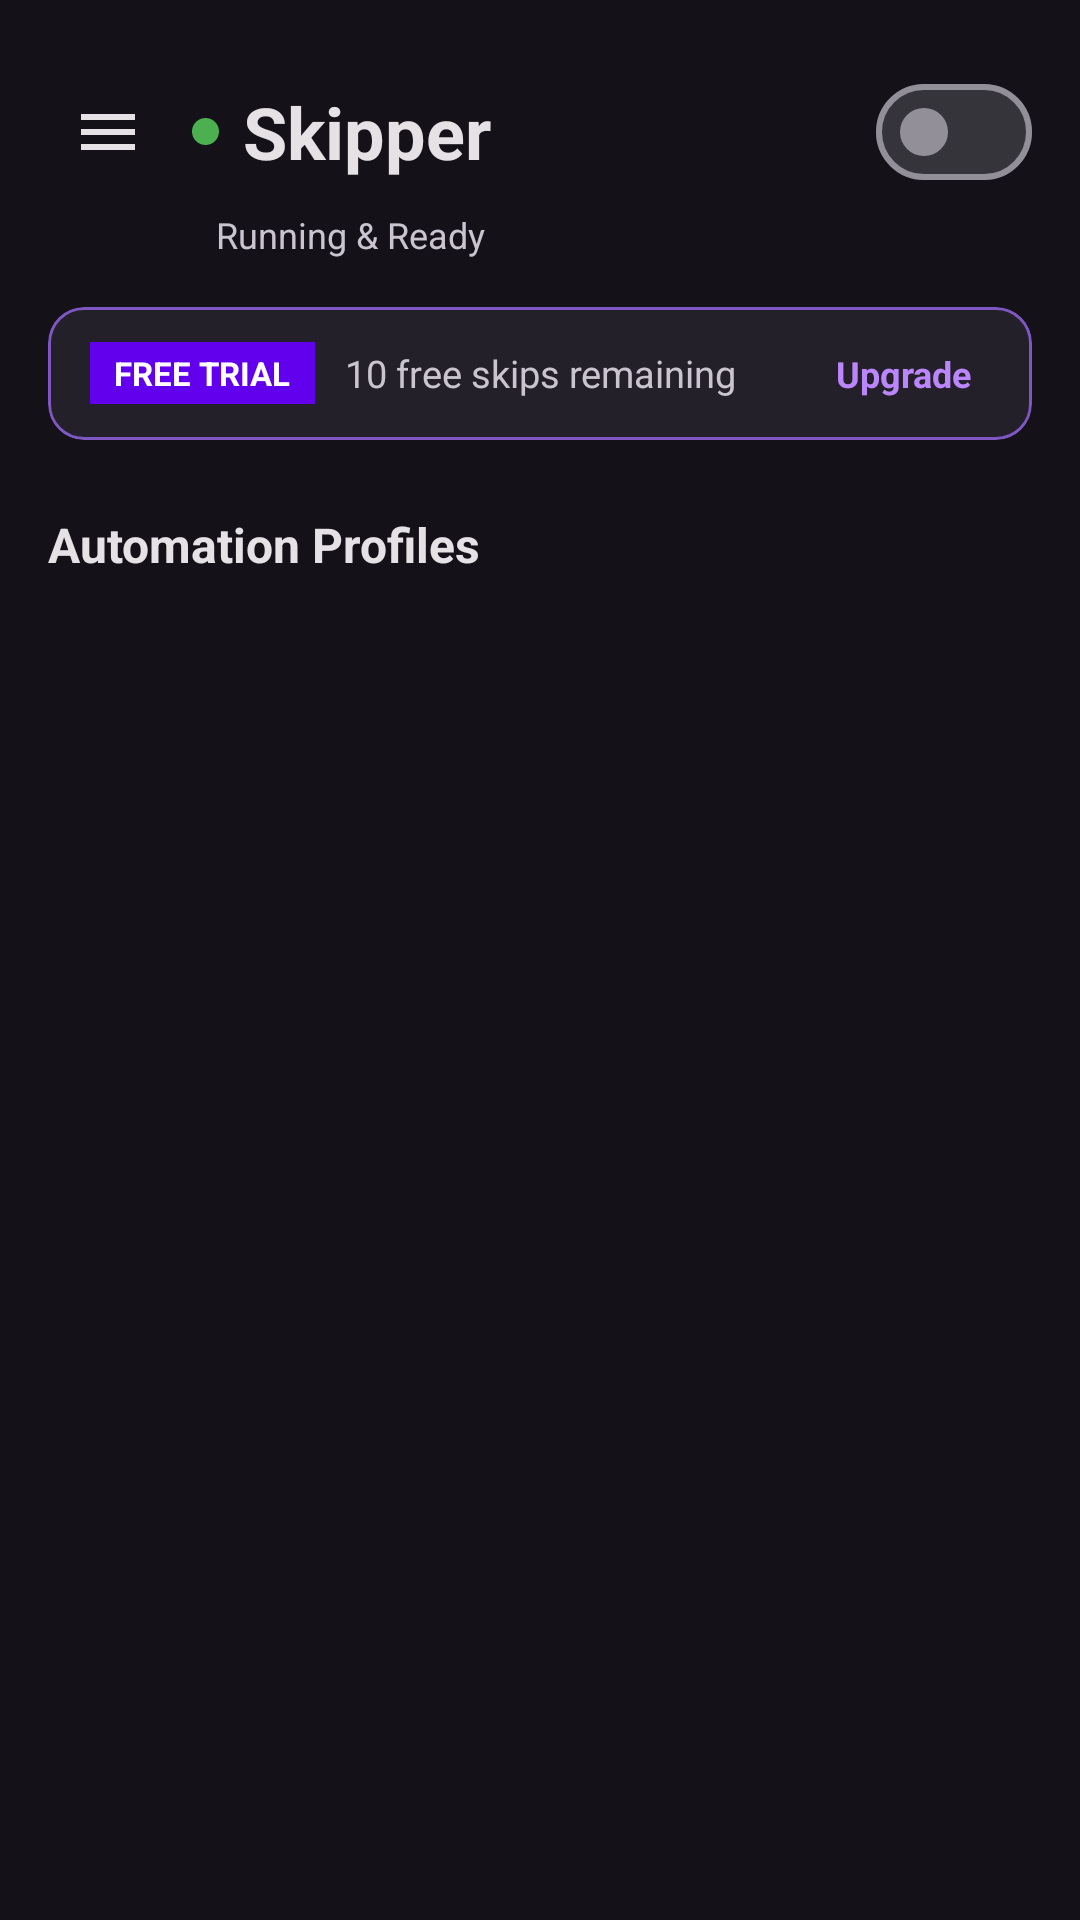

Point at icon controls on the screen. Image size 1080x1920, points as [x,y].
Open Menu: [108,132]
